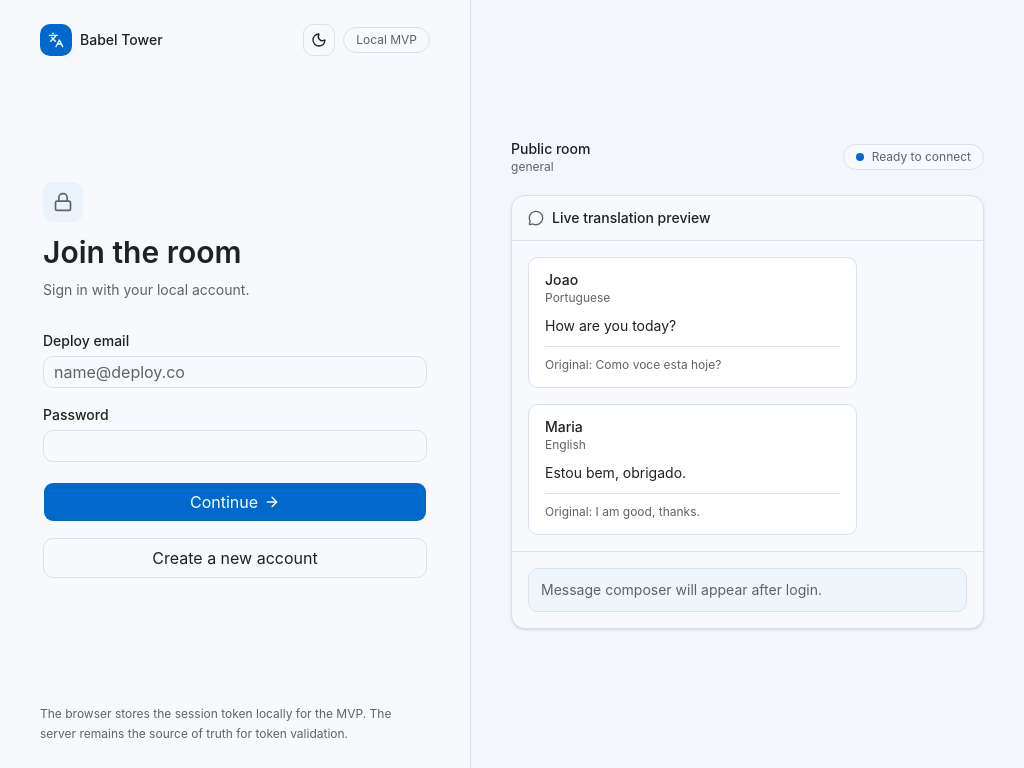
App › logs in, saves the token, and shows the full-page chat
The image size is (1024, 768).
Type "joao@deploy.co" into the field labelled "Deploy email" at (235, 372), box [43, 356, 427, 388]
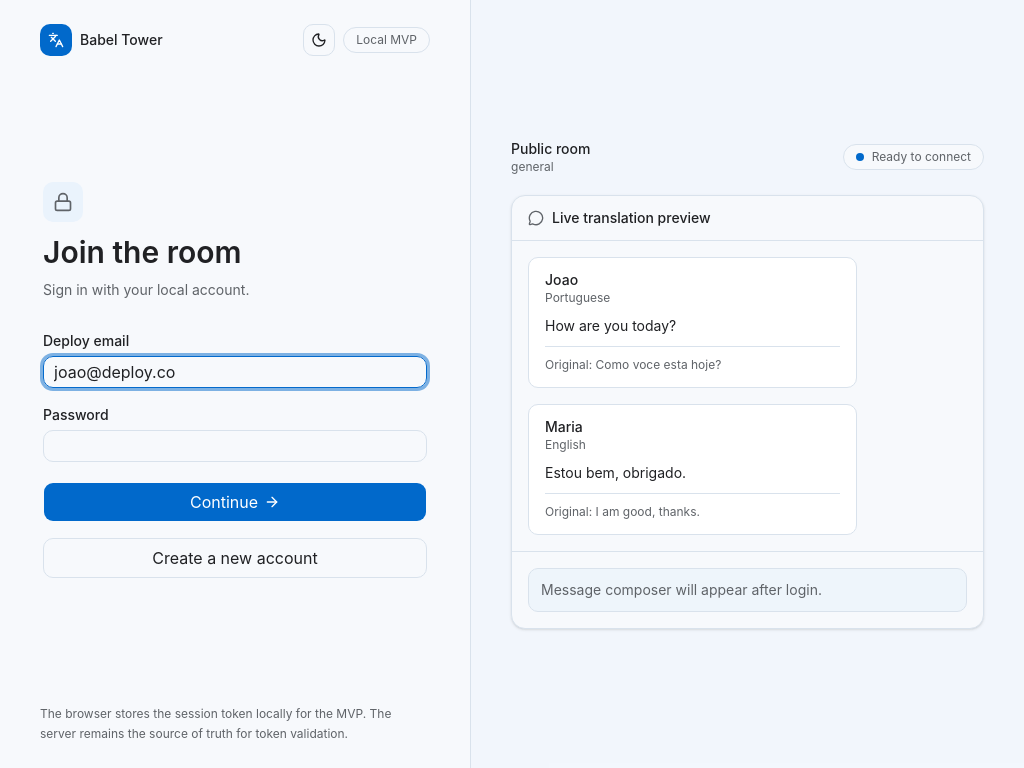
Type "local-pass" into the password field labelled "Password" at (235, 446), box [43, 430, 427, 462]
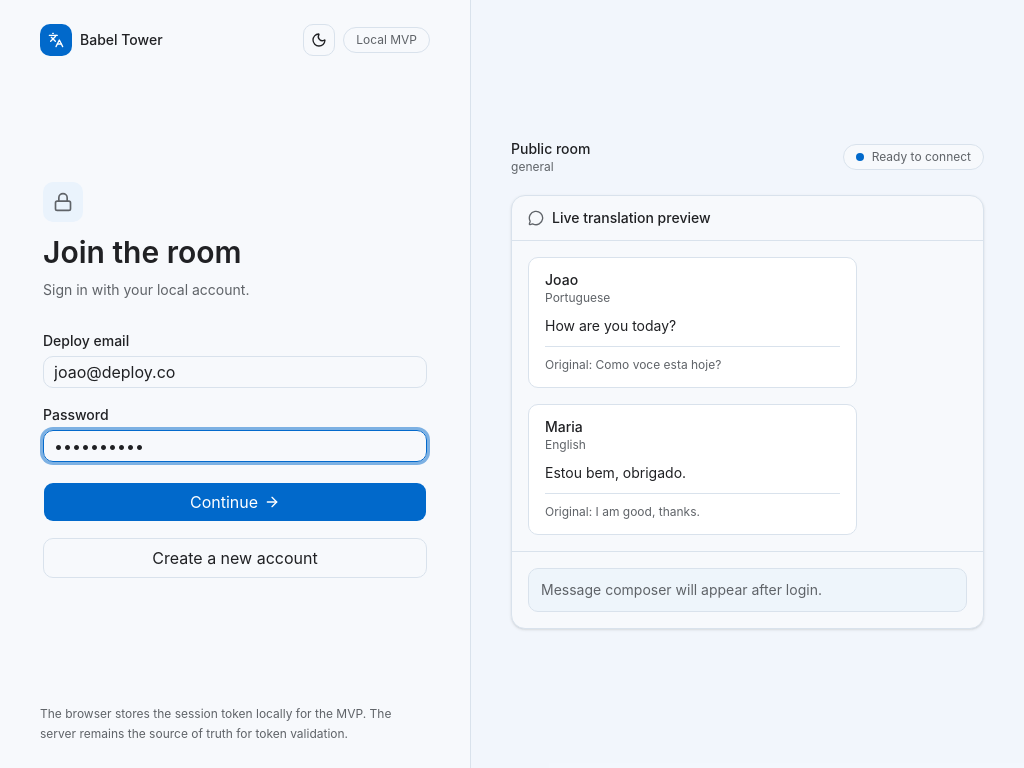
Click the button "Continue" at (235, 502), box [43, 482, 427, 522]
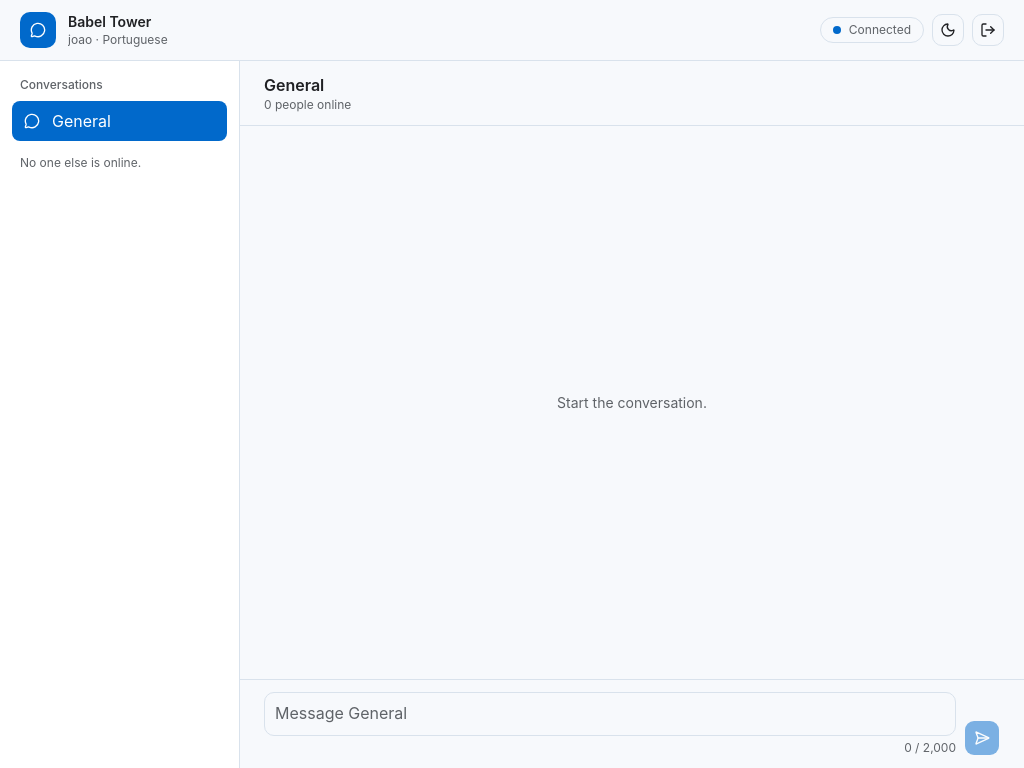
Expected: the text "Babel Tower" is shown, [68, 13, 151, 30]
Now the heading "General" is shown, box [264, 75, 324, 95]
Now the button named "Sign out" is shown, box [972, 14, 1004, 46]
